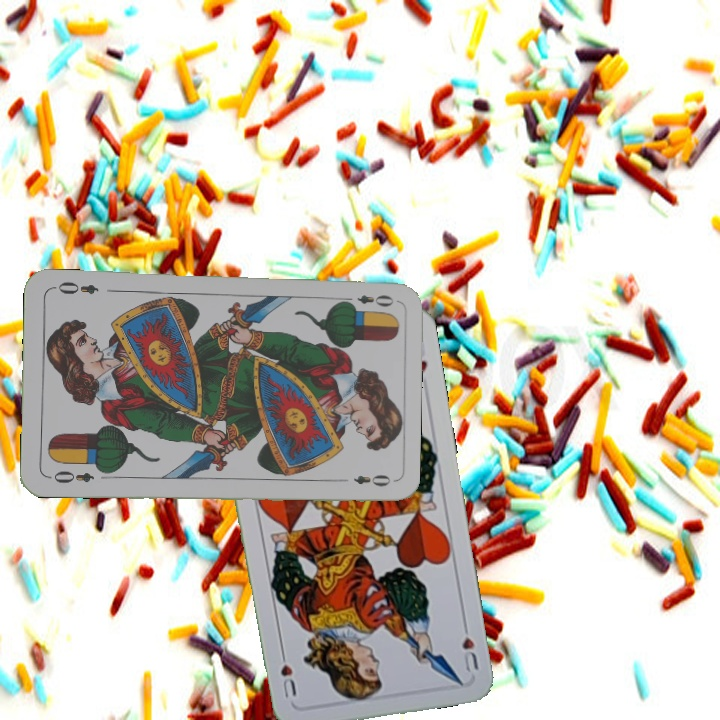EO: (44, 466, 97, 486), (338, 291, 396, 309)
HU: (458, 617, 481, 675)
